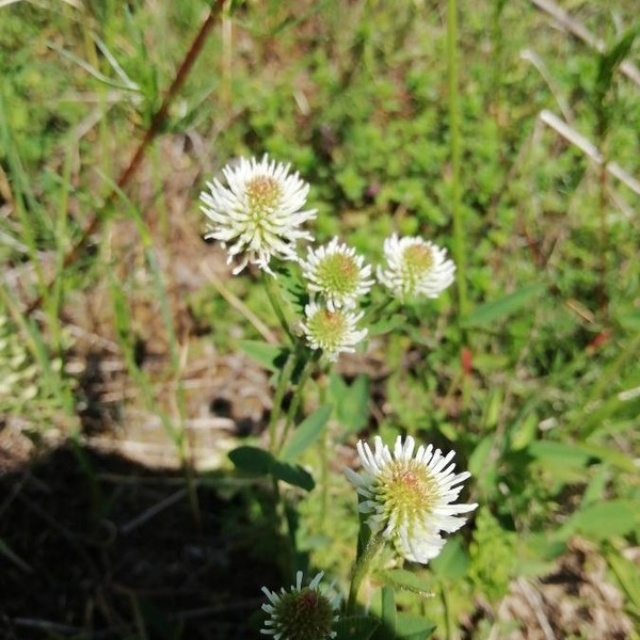obstacle: (213, 140, 483, 605)
